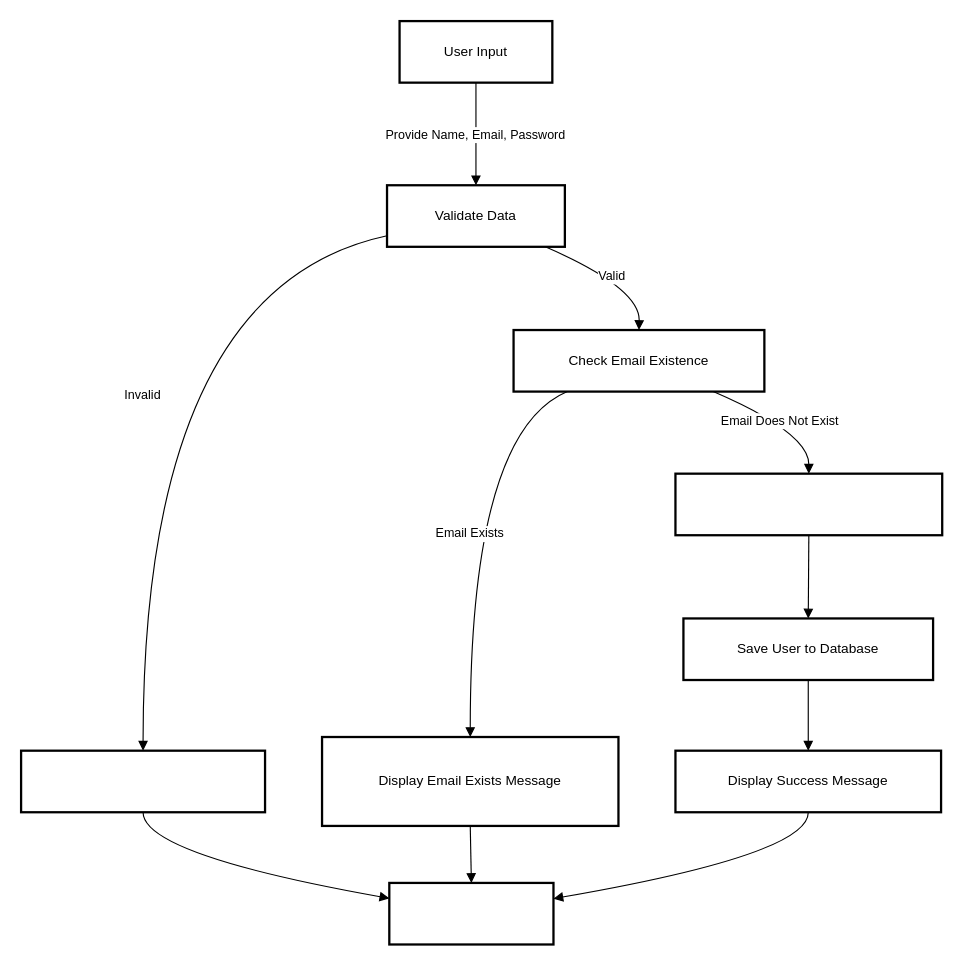
Some shapes in this 962 by 964 pixel diagram are drawn without their labels. Each missing label, with the box of its shape:
Create New User Record: (674, 472, 943, 536)
Display Error Message: (19, 749, 266, 813)
End Process: (388, 881, 554, 945)
